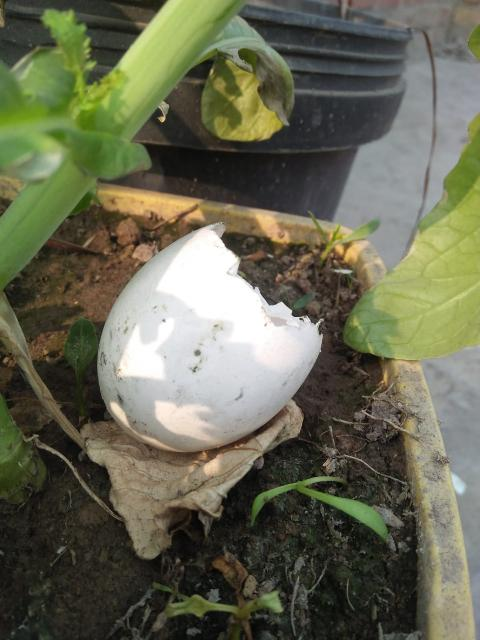Roto: (96, 220, 324, 454)
